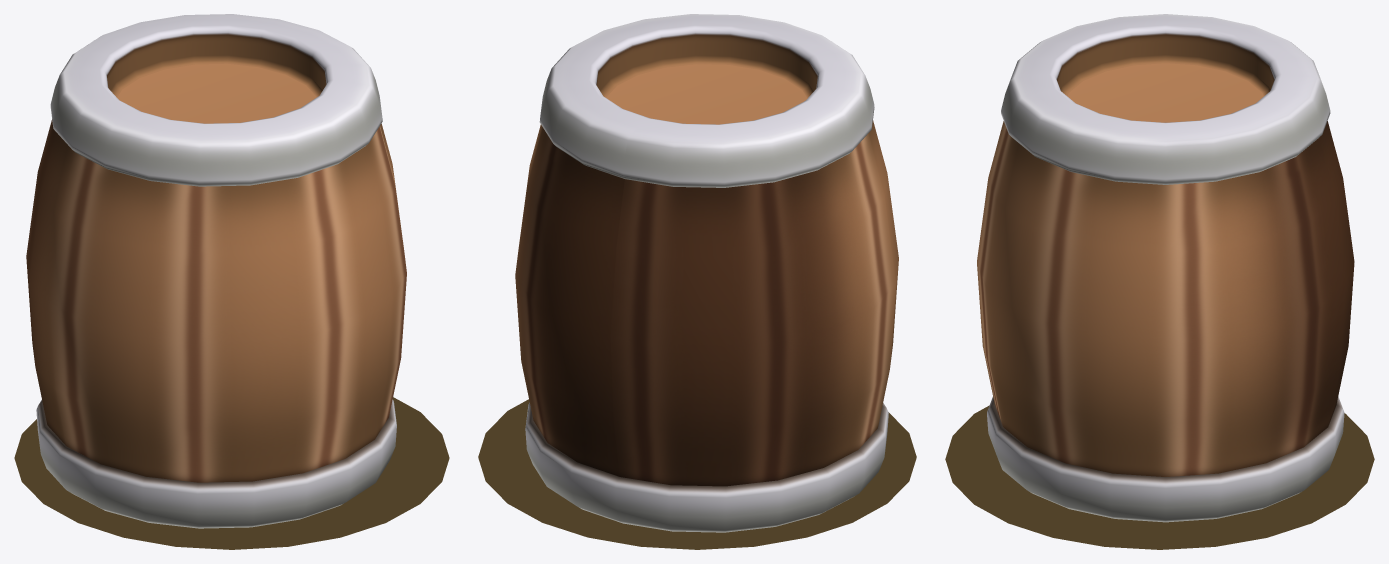
Rendered from Barrel.fbx.
The picture shows the model from 3 angles, left to right: view 1: azimuth 30°, elevation 25°; view 2: azimuth 150°, elevation 25°; view 3: azimuth 270°, elevation 25°; orthographic projection. The views are drawn at different scales.
Parts seen in each view (by area): view 1: barrel, Barrel_SDW; view 2: barrel, Barrel_SDW; view 3: barrel, Barrel_SDW.
Part boxes in pixels (x1,y1,x2,y2): barrel: (26,14,406,528); Barrel_SDW: (14,397,449,549); barrel: (515,14,898,532); Barrel_SDW: (478,399,916,549); barrel: (977,14,1354,522); Barrel_SDW: (945,405,1374,549).
Size of the model in its own units: 79.15 by 77.09 by 79.15.
Materials: 2 (1 with a texture image).
